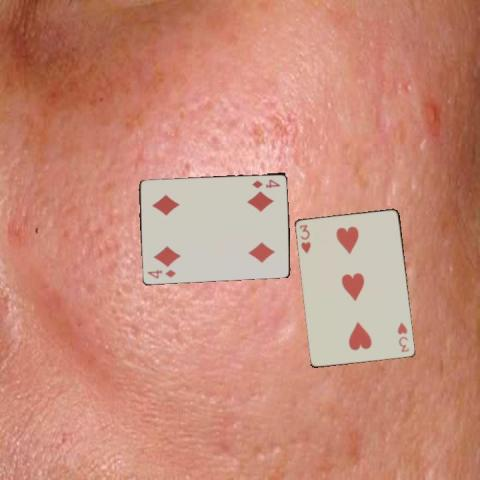3h: (394, 320, 410, 353), (297, 222, 312, 255)
4d: (144, 267, 177, 280), (250, 177, 282, 190)
